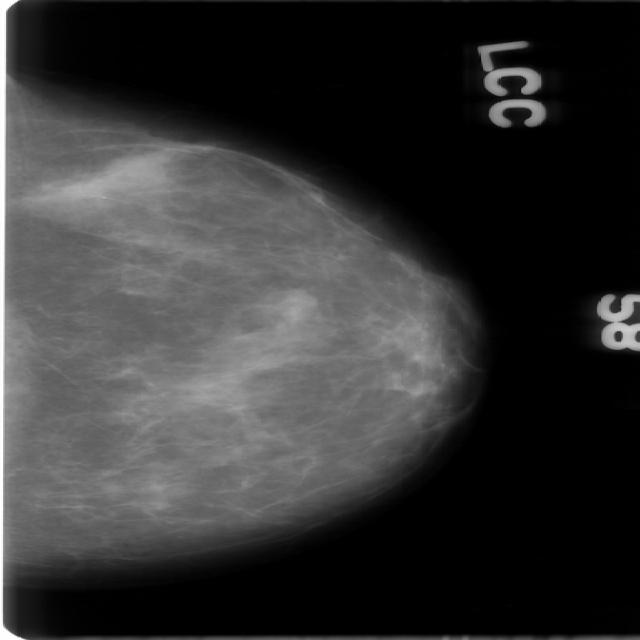tumour: (276, 288, 316, 322)
